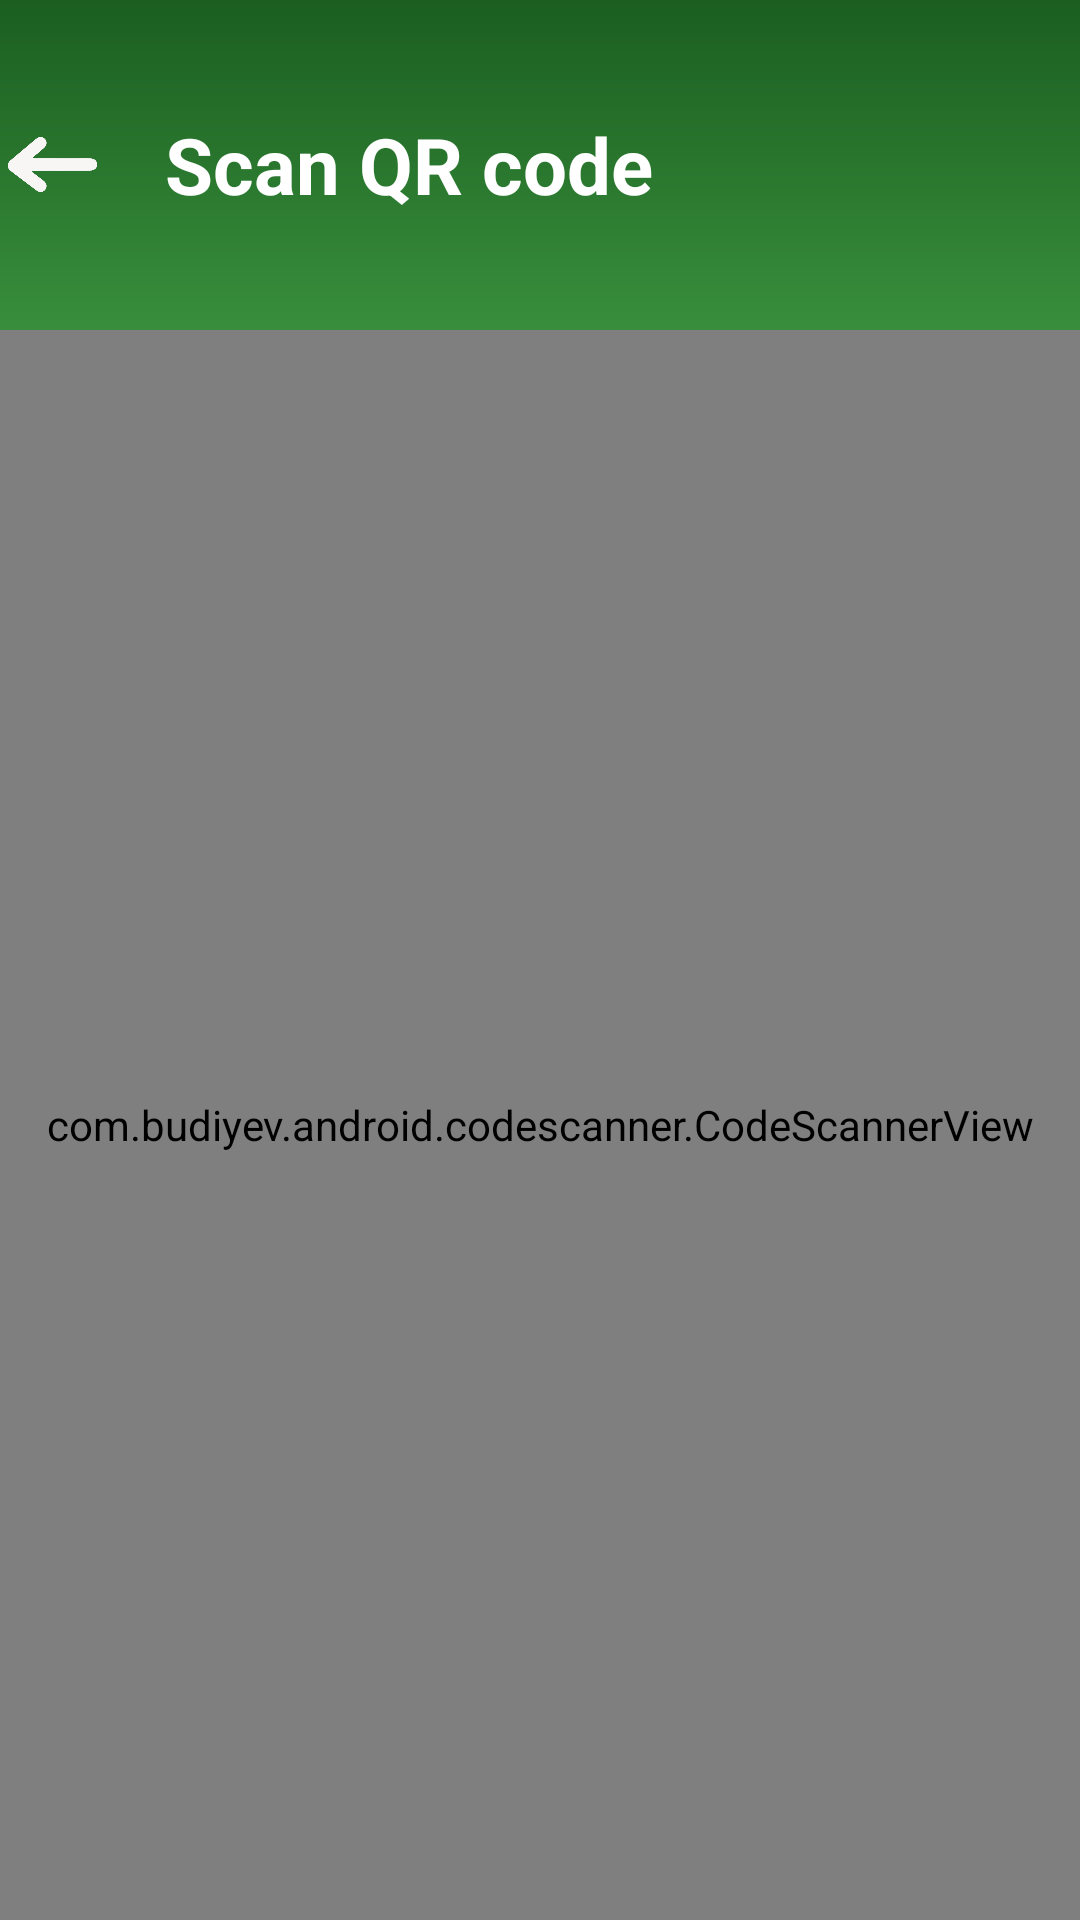

Named icons in this screenshot (1080×1920) and their centers, [x,y]:
back: [52,152]
